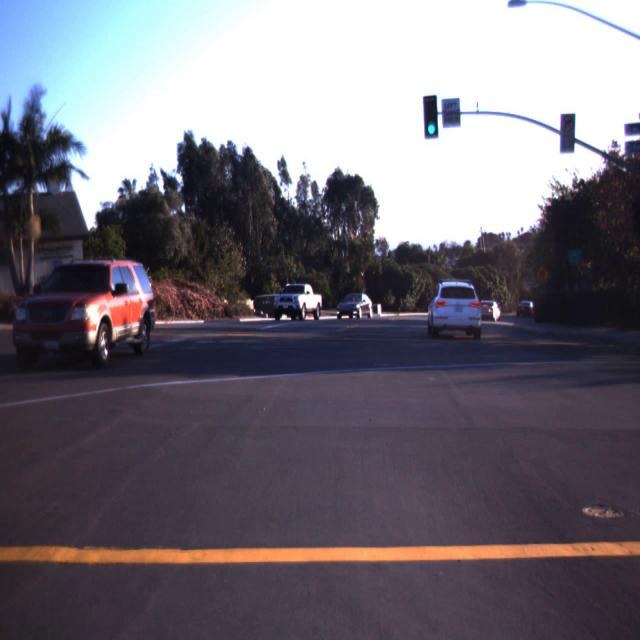go: (428, 125, 434, 134)
go traffic light: (421, 98, 441, 138)
